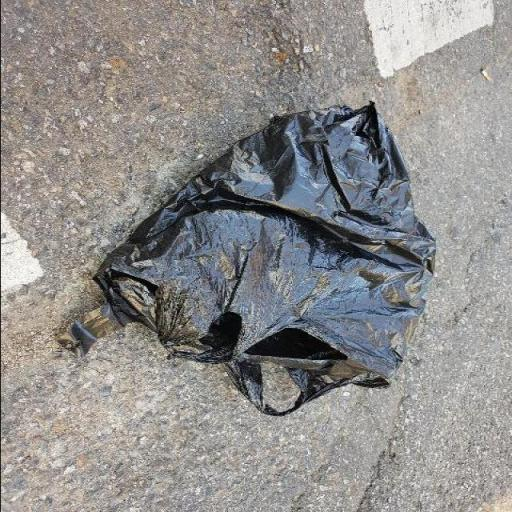plastic-bag: (50, 100, 440, 418)
